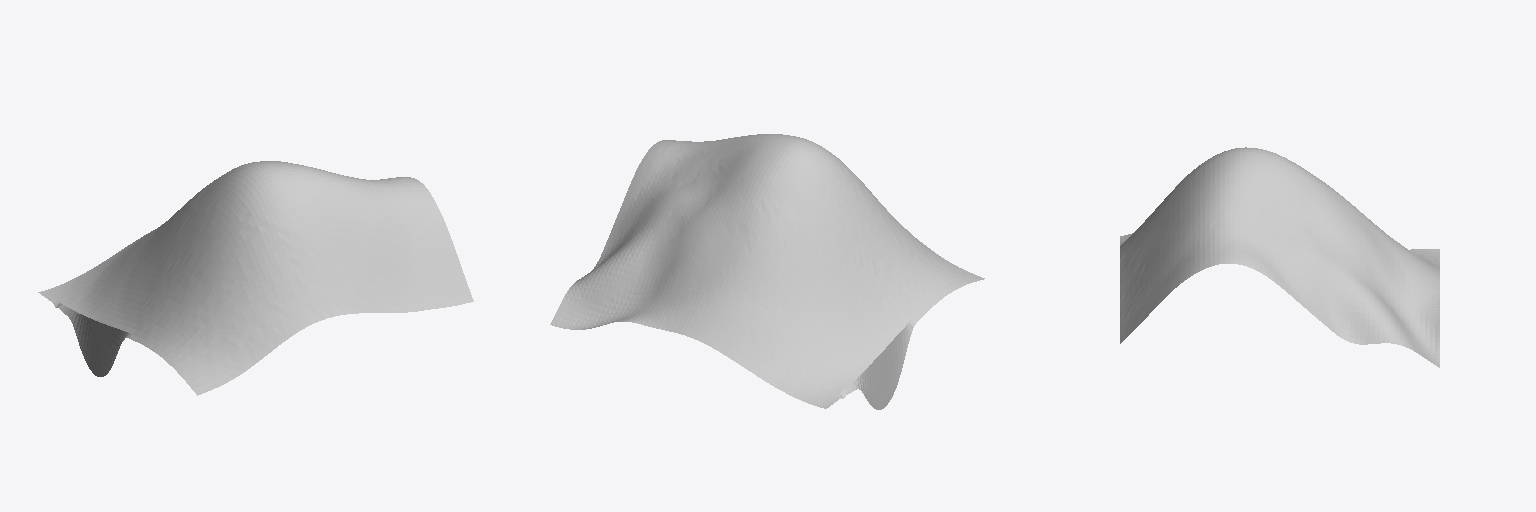
File: SM_Terrain_Tuto2Chunk2.2.obj
3 views of the same model, side by side, from view 1: azimuth 30°, elevation 25°; view 2: azimuth 150°, elevation 25°; view 3: azimuth 270°, elevation 25° (orthographic).
Bounding box in the file's own units: 100 × 70.66 × 100.